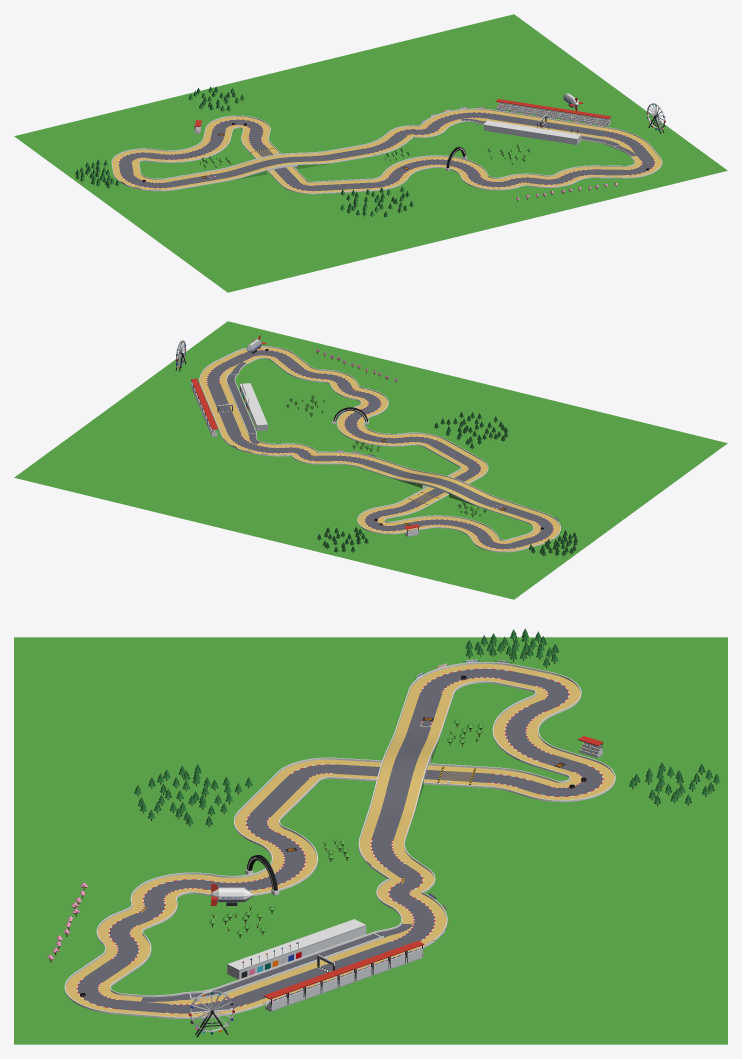
The model's file is bell-deer.glb.
3 renders of one model, top to bottom at view 1: azimuth 30°, elevation 25°; view 2: azimuth 150°, elevation 25°; view 3: azimuth 270°, elevation 25°, orthographic. The views are drawn at different scales.
Parts seen in each view (by area): view 1: Grass, Woods.grass, Asphalt, SandLeft, SandRight, WallLeft, WallRight, Woods.canopy-pine, Woods.canopy-pine-shade, Grandstand.stand-riser, Prop.pits.stand-plinth, Prop.pits.wall; view 2: Grass, Woods.grass, Asphalt, SandLeft, SandRight, WallLeft, WallRight, Woods.canopy-pine-shade, PitLane, Prop.pits.wall; view 3: Grass, Woods.grass, Asphalt, SandRight, SandLeft, Woods.canopy-pine, WallLeft, WallRight, Grandstand.stand-riser, PitLane, Prop.pits.wall, Grandstand.kerb-red (+6 smaller).
Boxes of the visible parts, x1,y1,x2,y2 form: Grass: (39,29,721,290); Woods.grass: (14,14,727,292); Asphalt: (119,112,654,190); SandLeft: (132,109,661,192); SandRight: (112,116,641,190); WallLeft: (138,108,662,194); WallRight: (111,115,635,191); Woods.canopy-pine: (77,86,413,216); Woods.canopy-pine-shade: (75,87,412,216); Grandstand.stand-riser: (194,102,610,133); Prop.pits.stand-plinth: (484,124,580,144); Prop.pits.wall: (484,120,580,138); Grass: (38,322,721,584); Woods.grass: (14,321,727,599); Asphalt: (207,350,553,548); SandLeft: (200,347,540,543); SandRight: (220,355,560,551); WallLeft: (199,346,533,540); WallRight: (248,357,560,552); Woods.canopy-pine-shade: (317,412,577,555); PitLane: (227,362,259,444); Prop.pits.wall: (240,383,267,425); Grass: (14,642,666,1040); Woods.grass: (14,637,727,1044); Asphalt: (77,669,602,1013); SandRight: (98,664,614,1004); SandLeft: (65,678,581,1016); Woods.canopy-pine: (134,628,720,825); WallLeft: (64,681,570,1018); WallRight: (110,662,615,996); Grandstand.stand-riser: (265,742,602,1010); PitLane: (141,923,412,1001); Prop.pits.wall: (227,919,365,969); Grandstand.kerb-red: (264,736,603,998).
Size of the model in its own units: 523 by 51.51 by 387.
